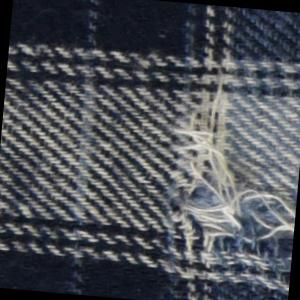Damage: (151, 51, 300, 298)
